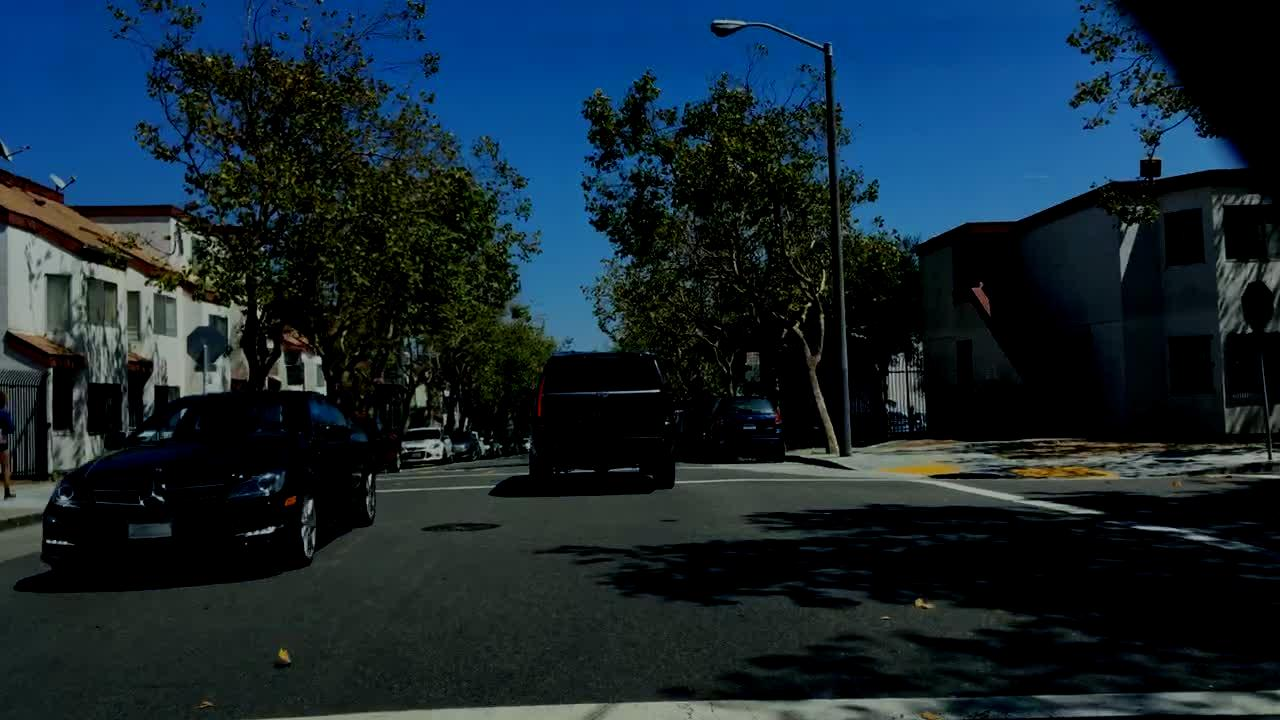Mercedes: (136, 479, 169, 513)
cadillac: (595, 390, 611, 401)
